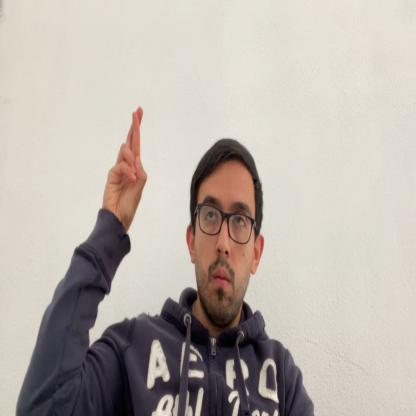R: (103, 104, 149, 224)
